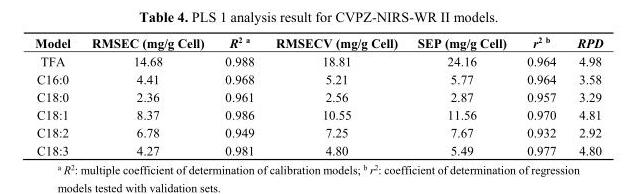table: (34, 34, 602, 157)
table column: (264, 34, 406, 157), (80, 34, 213, 157), (406, 34, 516, 157), (213, 34, 264, 157), (516, 34, 566, 157), (34, 34, 80, 157), (566, 34, 602, 157)
table column header: (34, 34, 602, 51)
table row: (34, 51, 602, 69), (34, 69, 602, 87), (34, 87, 602, 105), (34, 105, 602, 123), (34, 123, 602, 141), (34, 34, 602, 51), (34, 141, 602, 157)
